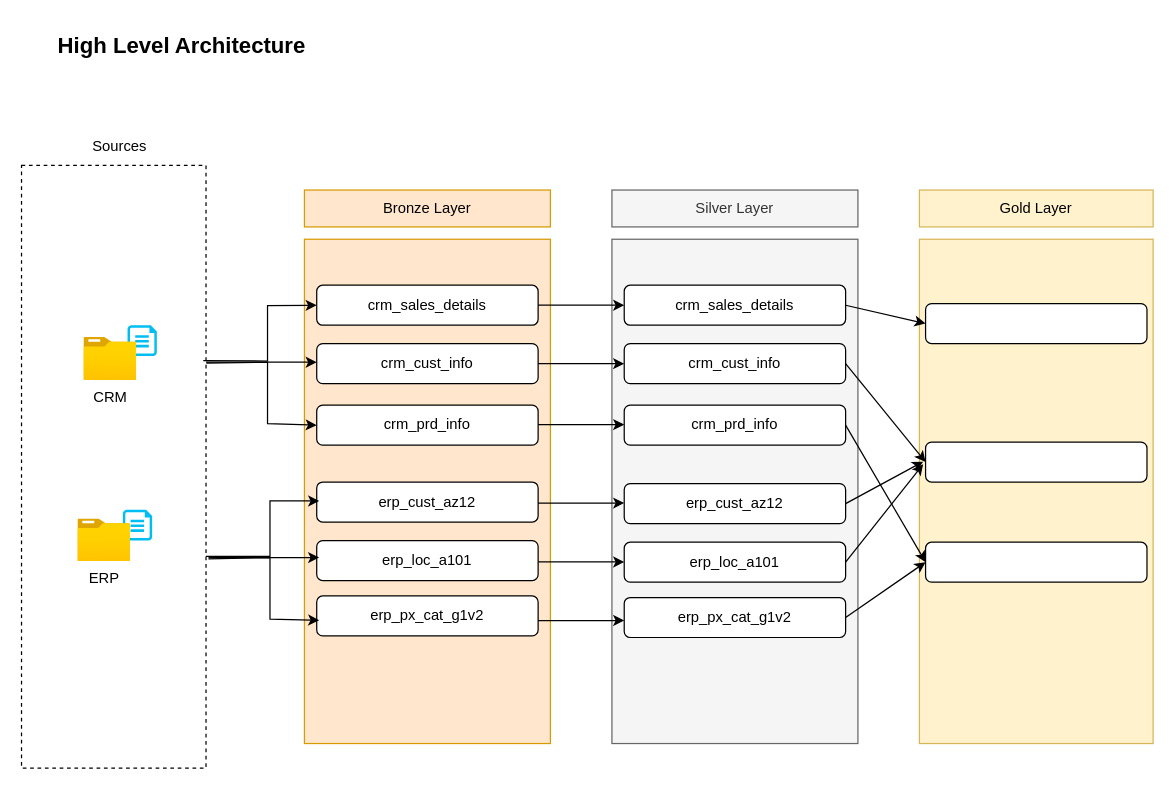
The diagram is 1175 pixels wide and 790 high, and some of its shapes have lost their labels. Here are the shapes that lost their labels. From the top down, the box of each, then its label:
(924, 302, 1147, 344): fact_sales
(924, 441, 1147, 482): dim_customers
(924, 541, 1147, 582): dim_products
